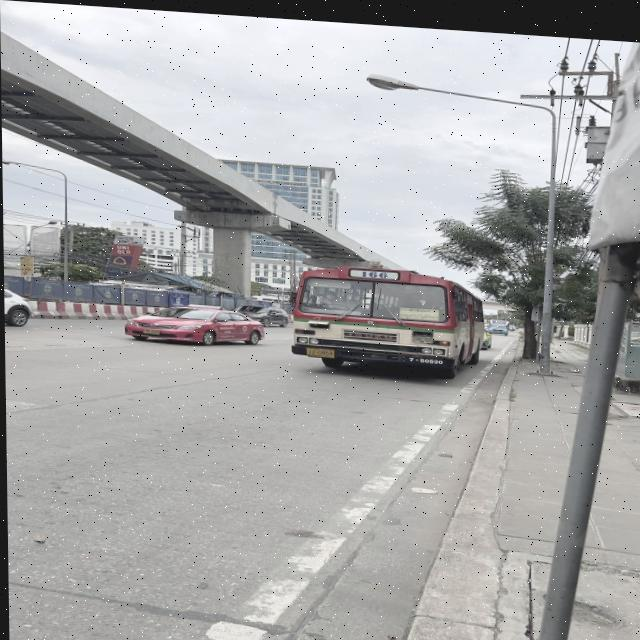BMTA-bus: (288, 254, 488, 376)
Bus-Line-Number: (349, 265, 399, 275)
Destination-Sign-Normal-Expressway: (400, 302, 438, 316)
